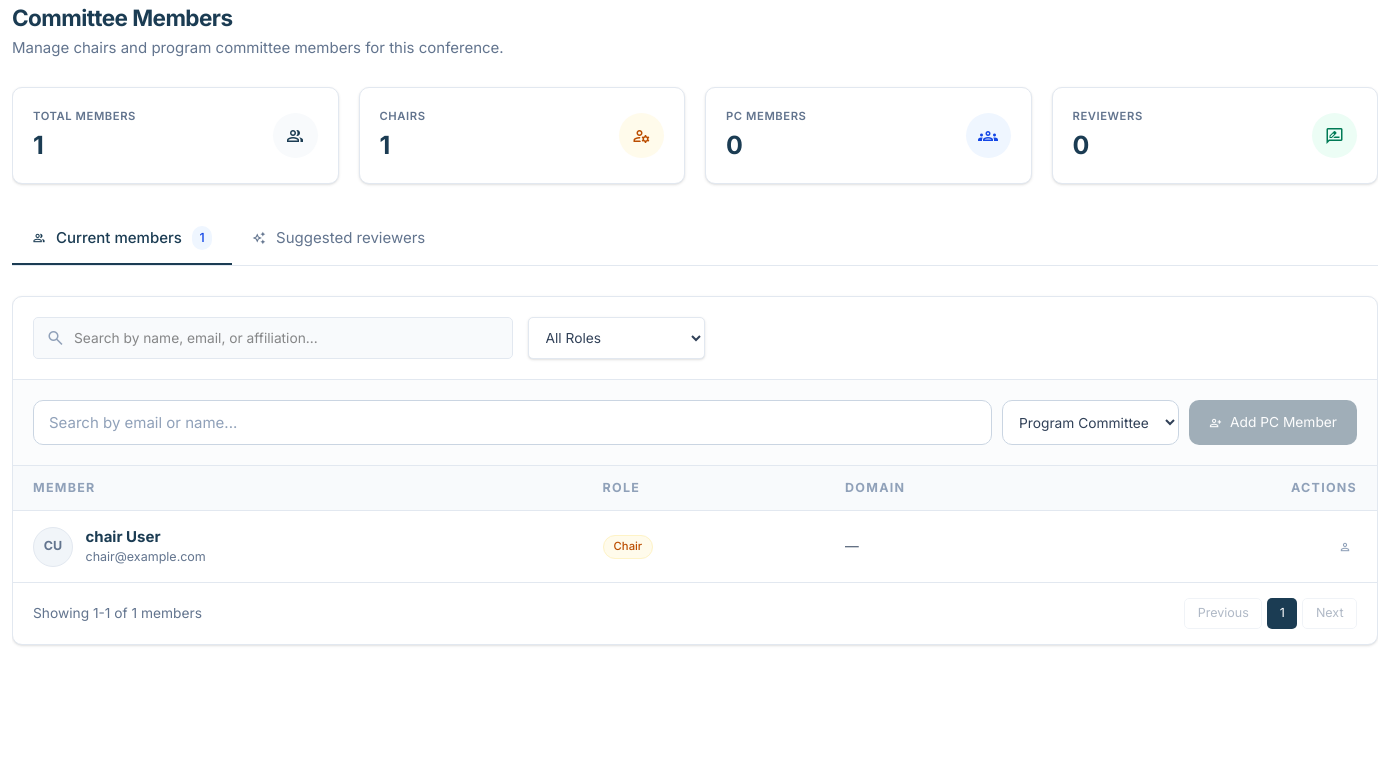
ConferenceCommittee — Add Member search dropdown match evidence › re-runs the search when the user toggles to the reviewer role
In the field with placeholder "Search by email or name...": coordinates (512, 423) [33, 400, 992, 445], type "toggle"
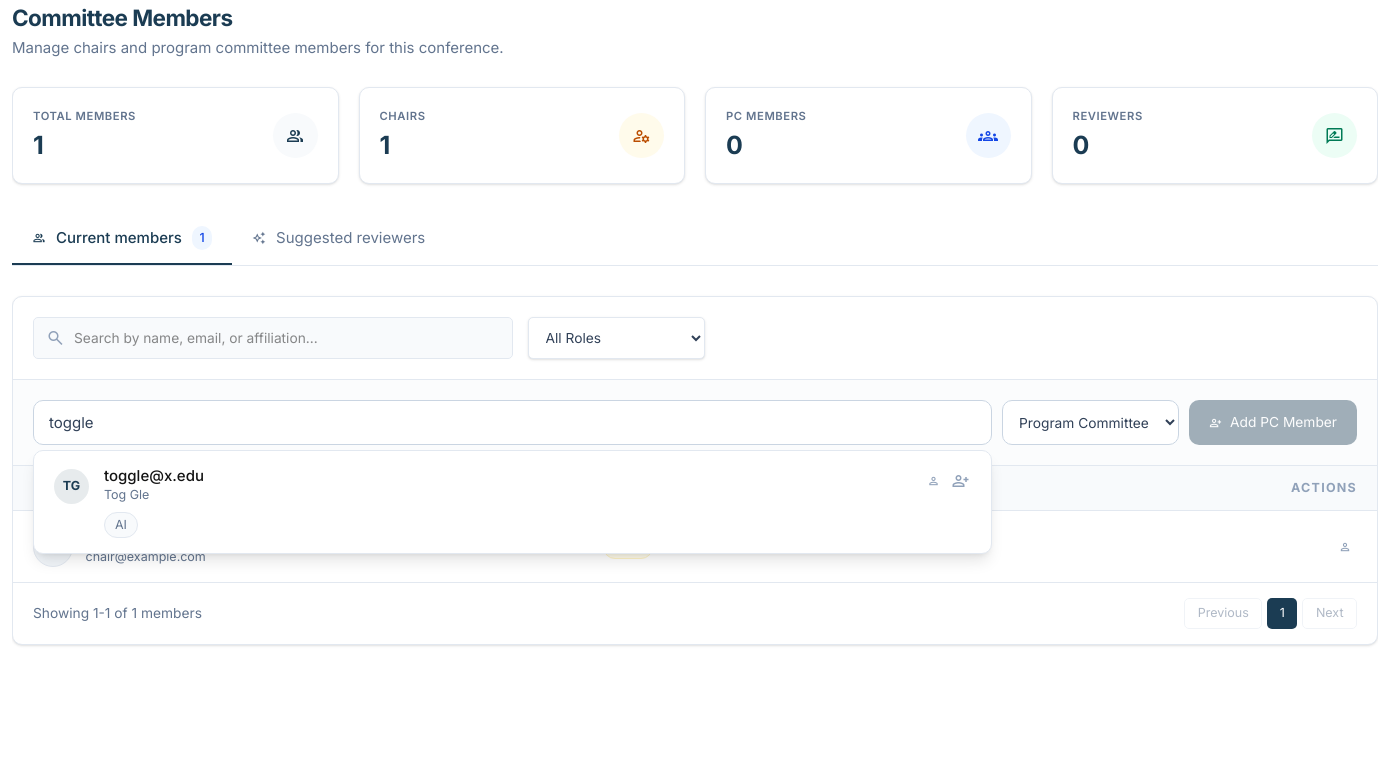
Expected: the text "toggle@x.edu" is shown, [104, 466, 204, 485]
Select "Reviewer" in the 2nd dropdown: coordinates (1090, 423) [1002, 400, 1178, 445]
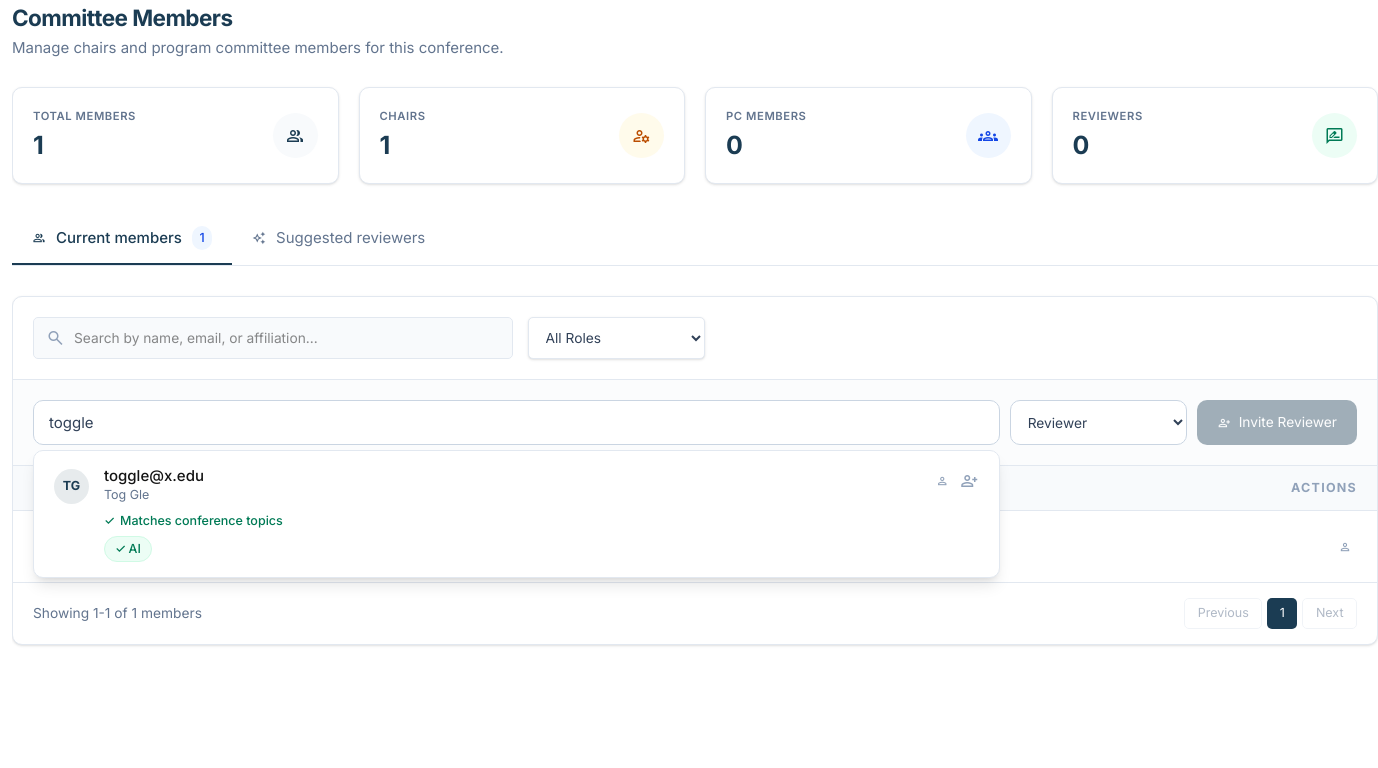
Expected: the element with test id "match-evidence-label" is shown, [104, 514, 283, 528]
